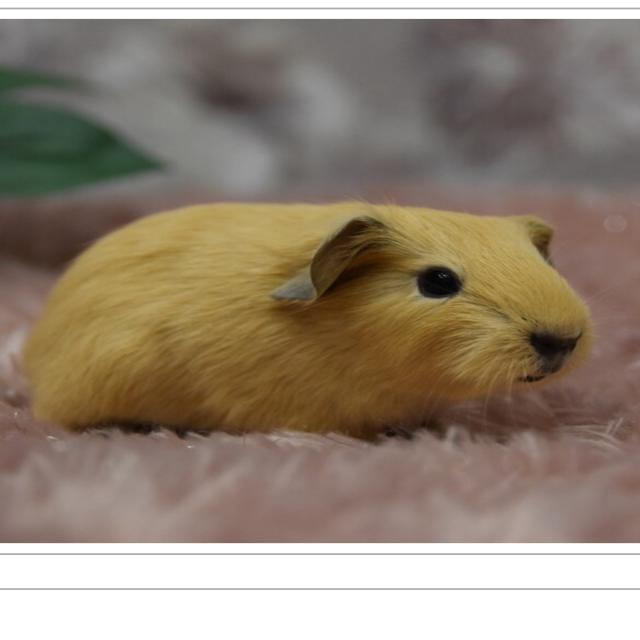guinea pig: (18, 200, 595, 442)
